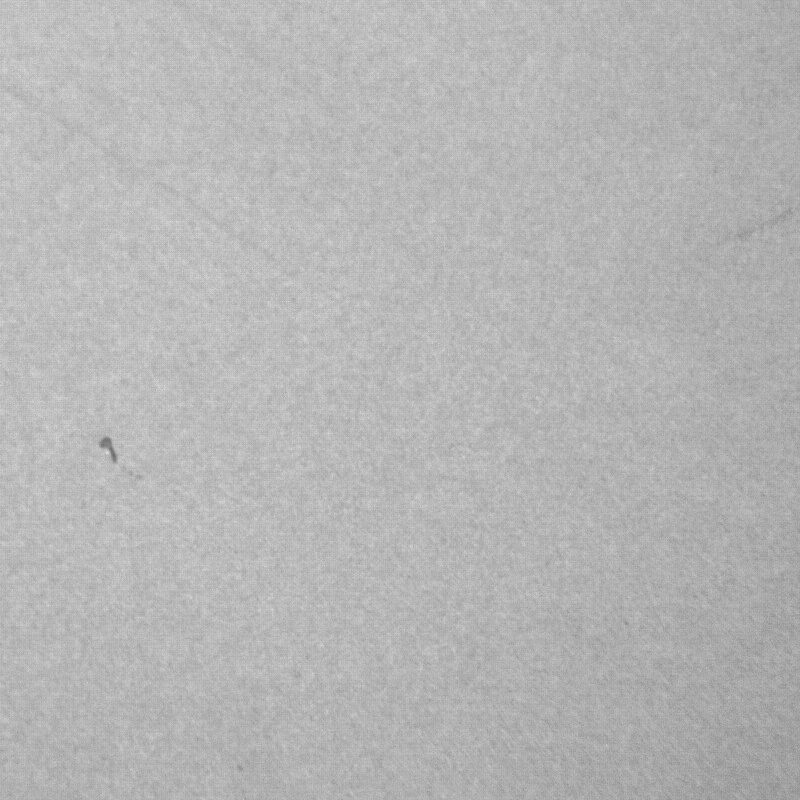defect: (97, 433, 133, 476), (744, 206, 798, 234)
